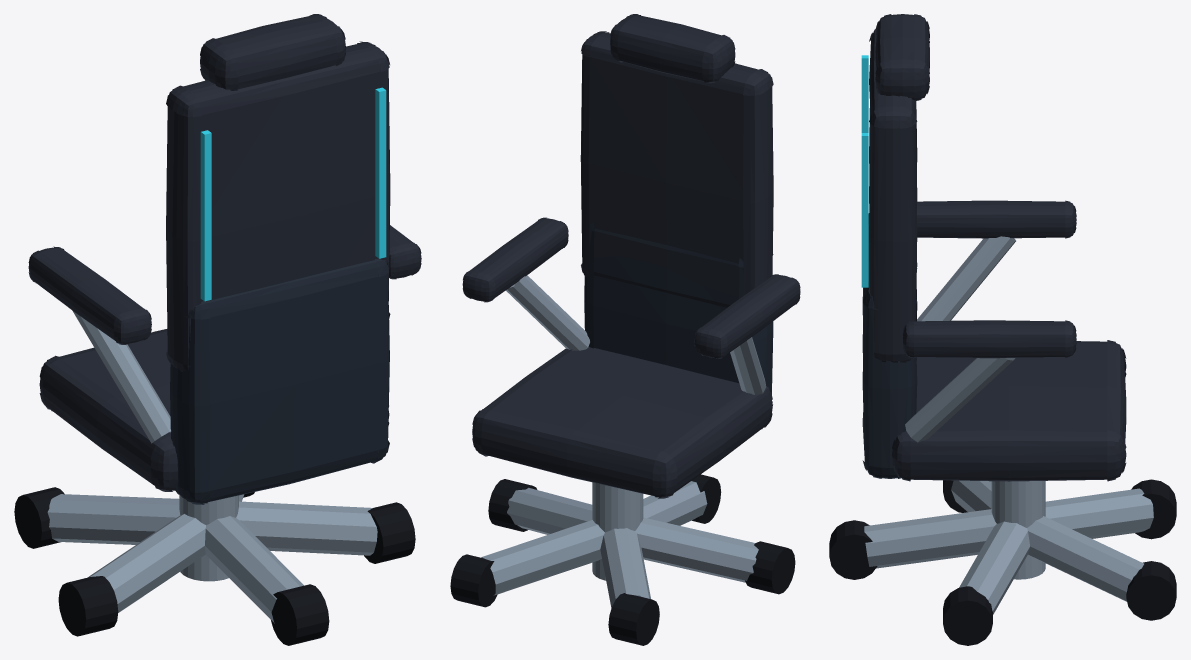
Rendered from 34_PS_ErgonomicExecutiveChair.fbx.
3 views of the same model, side by side, from view 1: azimuth 30°, elevation 25°; view 2: azimuth 150°, elevation 25°; view 3: azimuth 270°, elevation 25° (orthographic). The views are drawn at different scales.
Visible parts, largest first — view 1: PS_ErgonomicExecutiveChair; view 2: PS_ErgonomicExecutiveChair; view 3: PS_ErgonomicExecutiveChair.
Boxes of the visible parts, x1,y1,x2,y2 form: PS_ErgonomicExecutiveChair: (14,14,421,645); PS_ErgonomicExecutiveChair: (450,14,800,645); PS_ErgonomicExecutiveChair: (829,14,1176,645).
Bounding box in the file's own units: 108 × 184 × 108.
